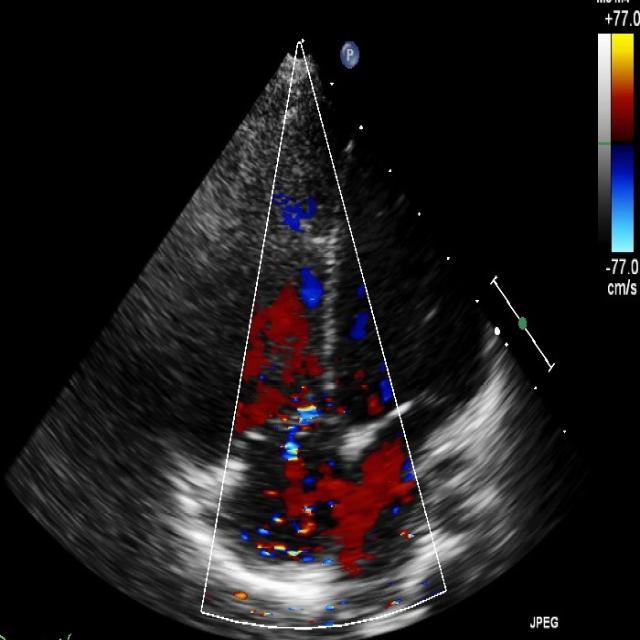ASDType2: (256, 432, 416, 579)
